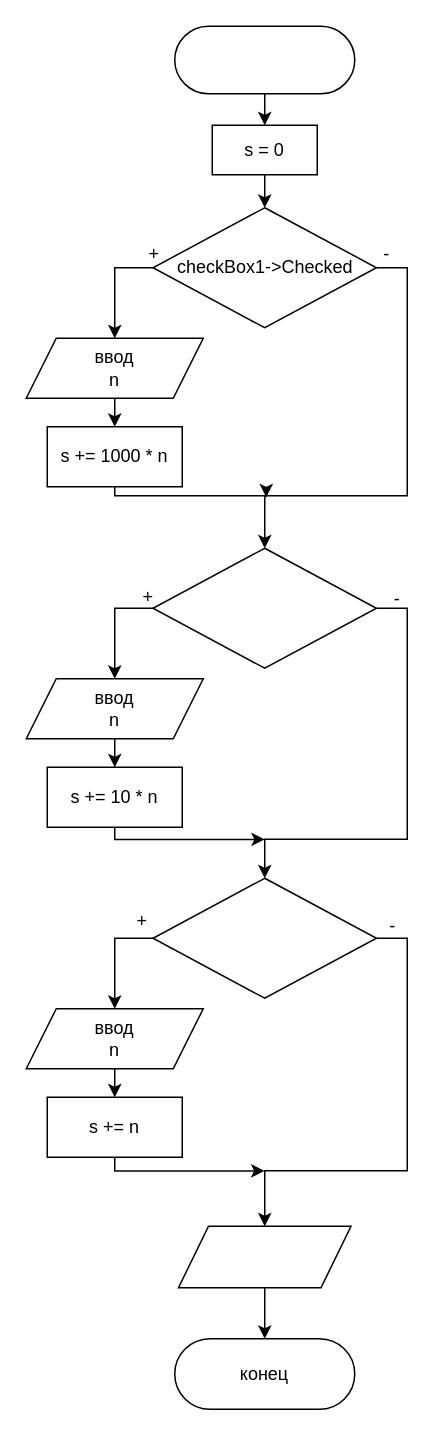
Image size: 446x1436. Some labels were removed from this diagram. Here are the shapes that lost their labels. From the top down, the centre of each, then its label:
At (264,59): "начало".
At (264,607): "checkBox2->Checked".
At (264,937): "checkBox3->Checked".
At (264,1256): "вывод s".
